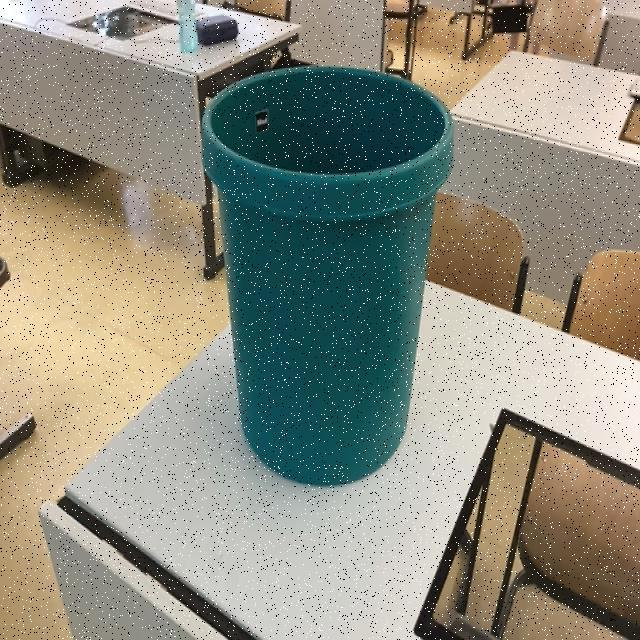garbage container: (187, 52, 461, 498)
